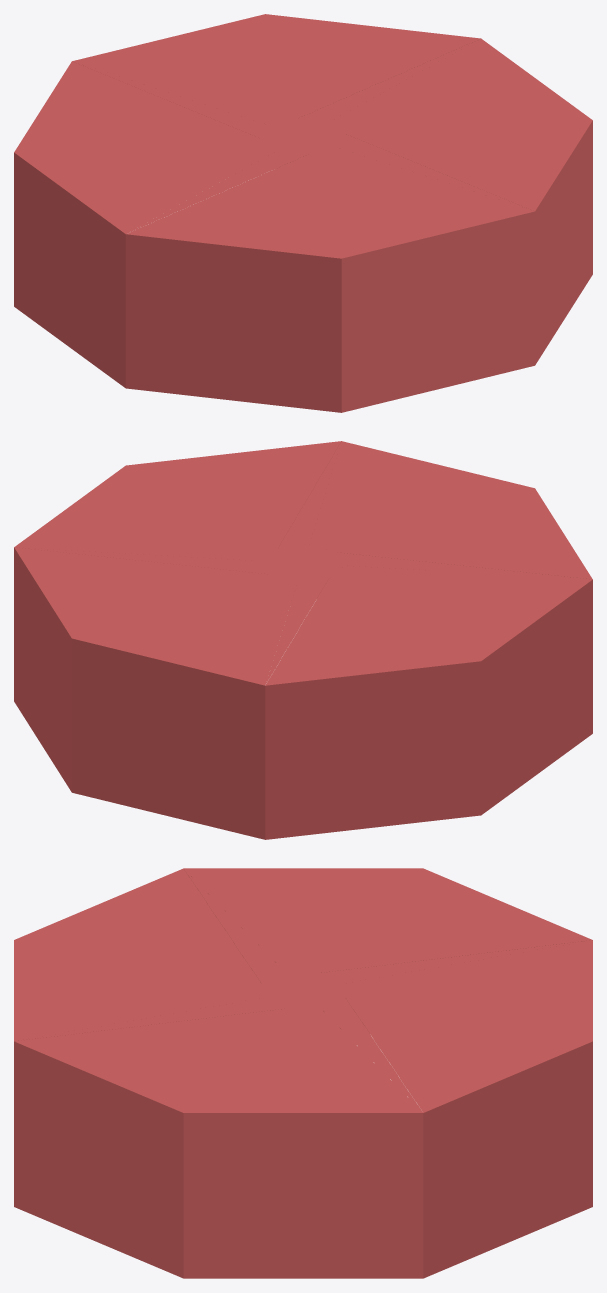
The model's file is ewb_ice_a.glb.
3 views of the same model, one above another, from view 1: azimuth 30°, elevation 25°; view 2: azimuth 150°, elevation 25°; view 3: azimuth 270°, elevation 25° (orthographic). The views are drawn at different scales.
Visible parts, largest first — view 1: ewb_ice_a_col; view 2: ewb_ice_a_col; view 3: ewb_ice_a_col.
Part boxes in pixels (left/top/right/bottom): ewb_ice_a_col: left=14, top=14, right=592, bottom=412; ewb_ice_a_col: left=14, top=441, right=592, bottom=839; ewb_ice_a_col: left=14, top=868, right=592, bottom=1278.
Bounding box in the file's own units: 3.17 × 1 × 3.17.
